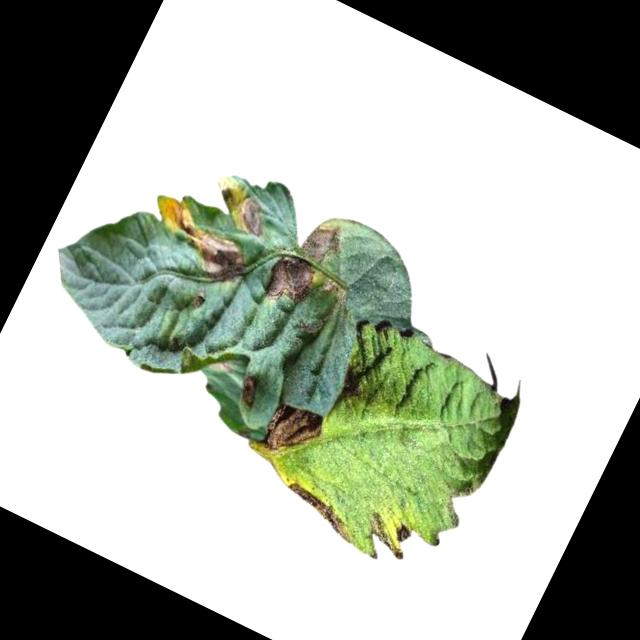Early_blight: (138, 191, 260, 291), (276, 478, 364, 546), (257, 396, 328, 467), (259, 249, 321, 314), (296, 209, 352, 271), (226, 189, 276, 238), (231, 365, 267, 409), (390, 518, 416, 545)
